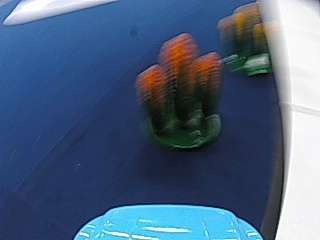corn: (136, 30, 224, 150)
